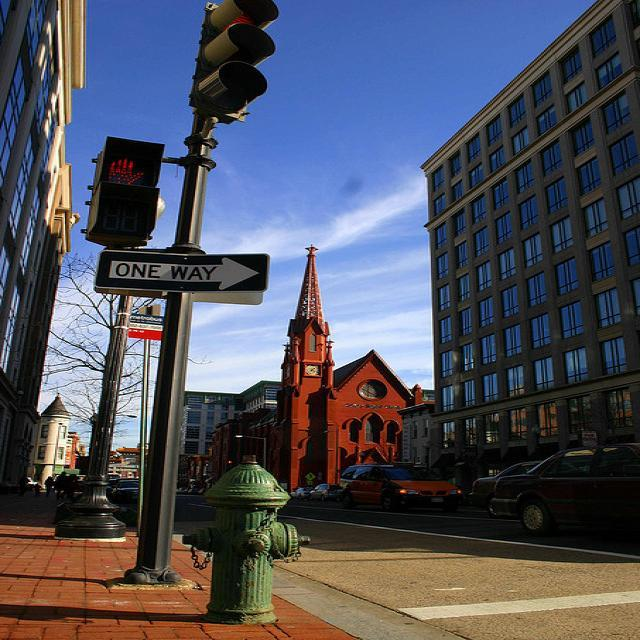fire_hydrant: (174, 461, 306, 622)
